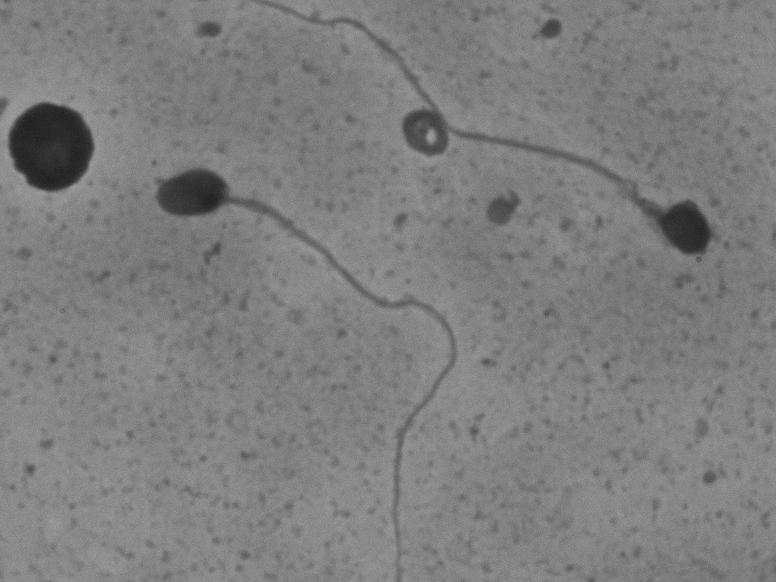Abnormal: (93, 153, 498, 422), (436, 59, 731, 299)
